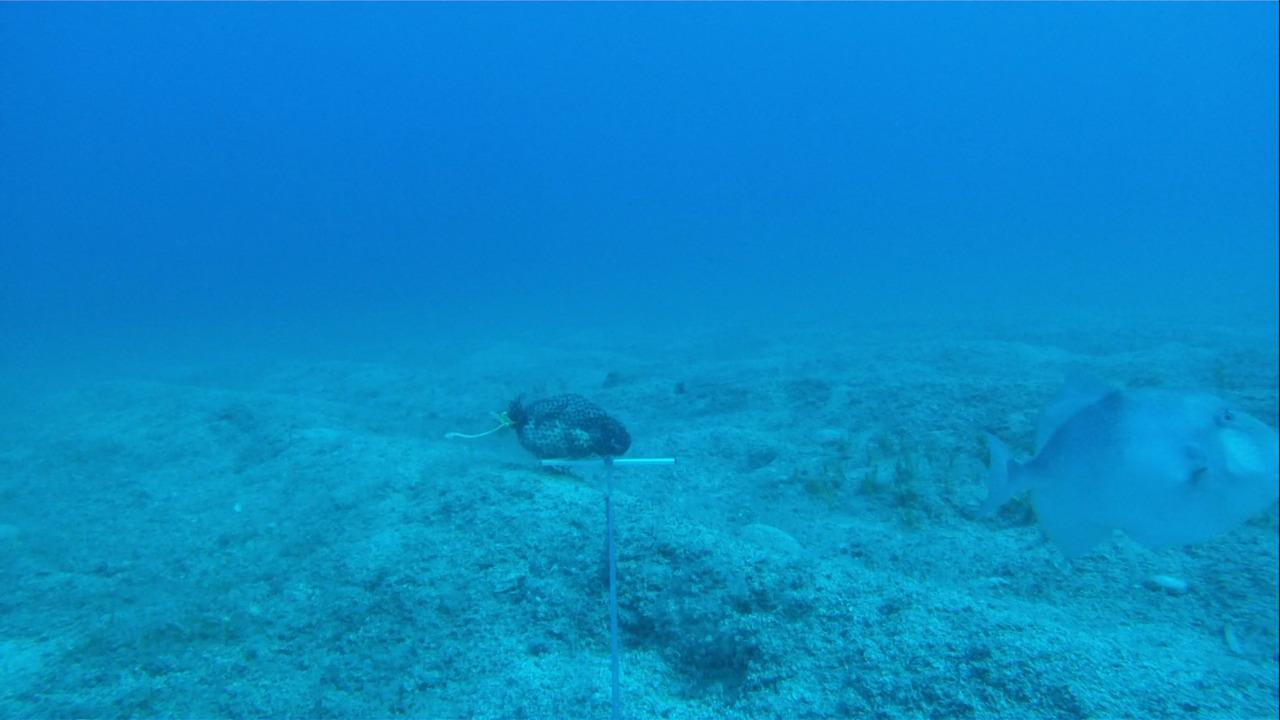balistes: (954, 362, 1279, 588)
dactylopterus: (659, 345, 848, 410)
